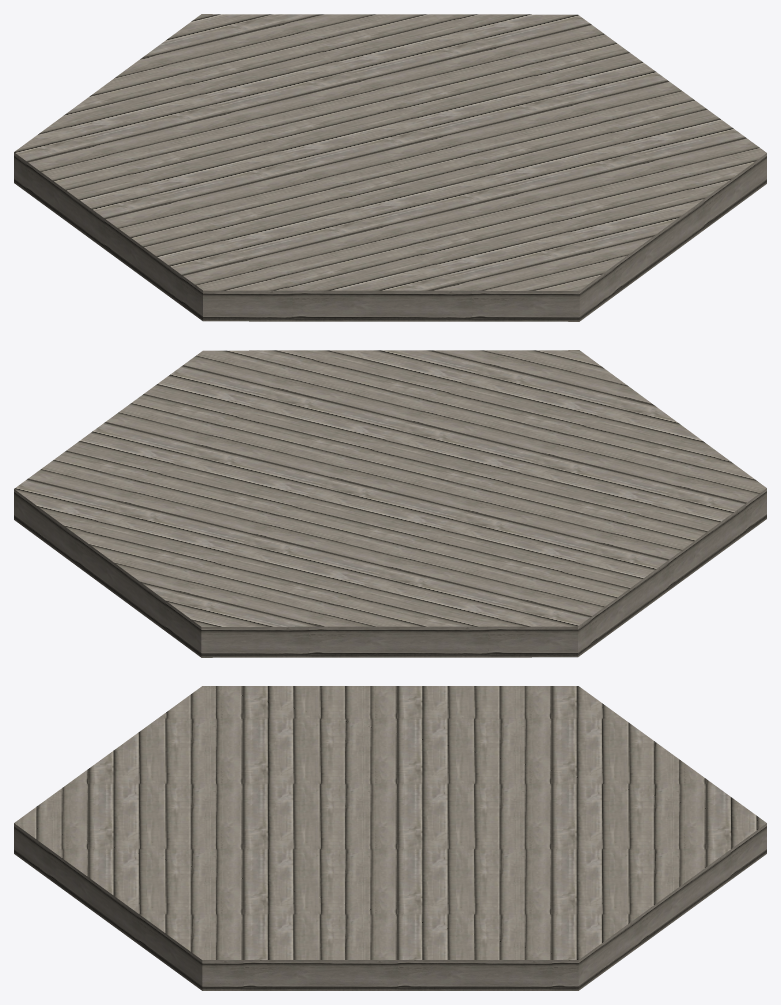
File: wood_ground.obj
3 renders of one model, top to bottom at view 1: azimuth 30°, elevation 25°; view 2: azimuth 150°, elevation 25°; view 3: azimuth 270°, elevation 25°, orthographic.
Parts seen in each view (by area): view 1: mergedBlocks; view 2: mergedBlocks; view 3: mergedBlocks.
Boxes of the visible parts, bbox=[...] form: mergedBlocks: bbox=[14, 14, 766, 321]; mergedBlocks: bbox=[14, 350, 766, 657]; mergedBlocks: bbox=[14, 686, 766, 990].
Bounding box in the file's own units: 4.2 × 0.22 × 4.88.
1 material, 1 textured.
